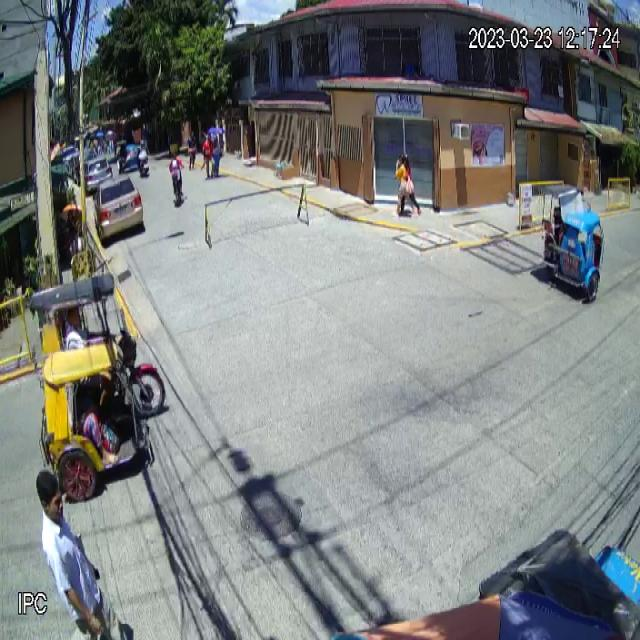Tricycle: (32, 274, 165, 501), (536, 184, 606, 303)
